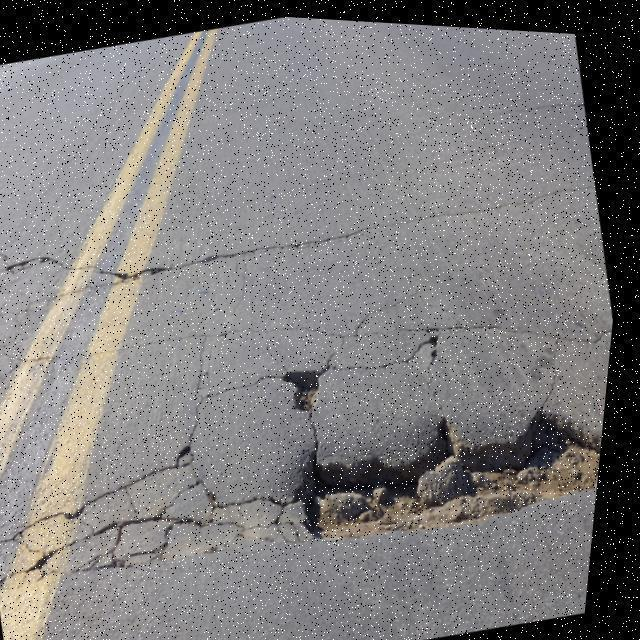Pothole: (286, 407, 603, 547)
